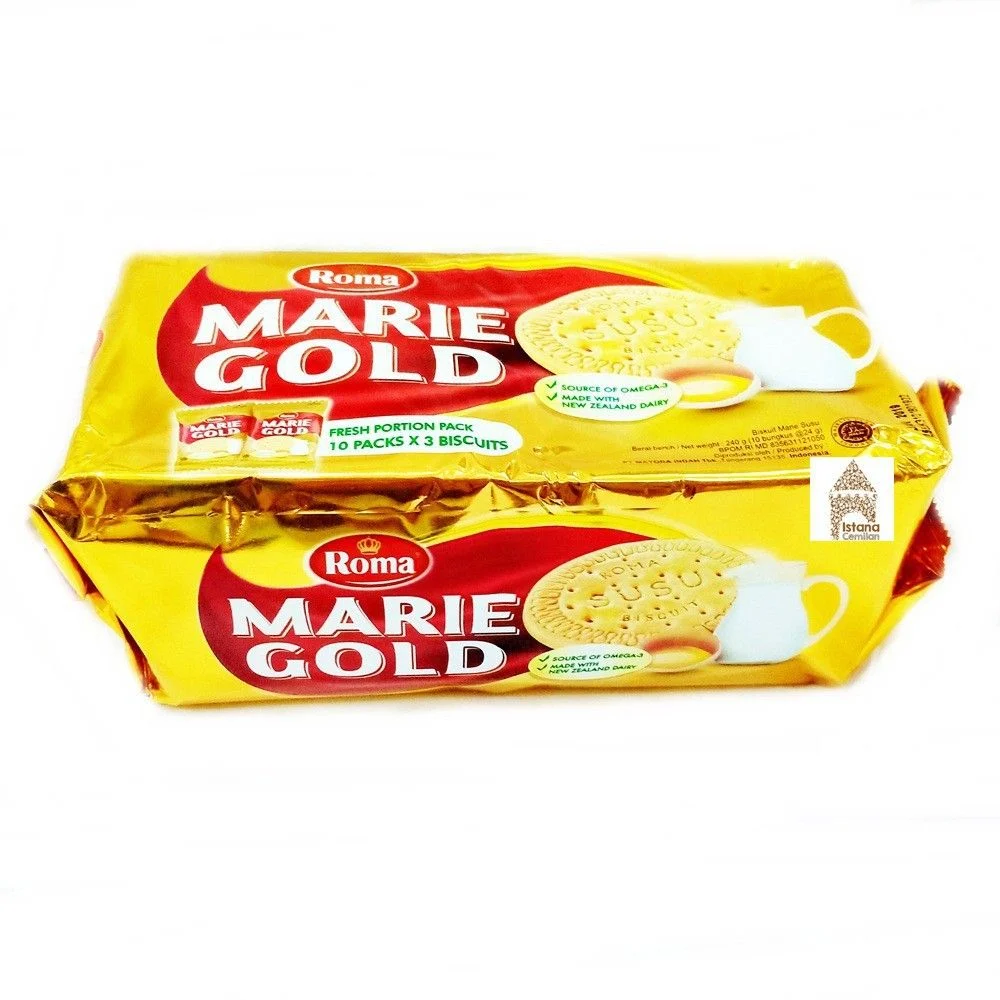Roma Marie Gold (240g): (19, 237, 953, 738)
